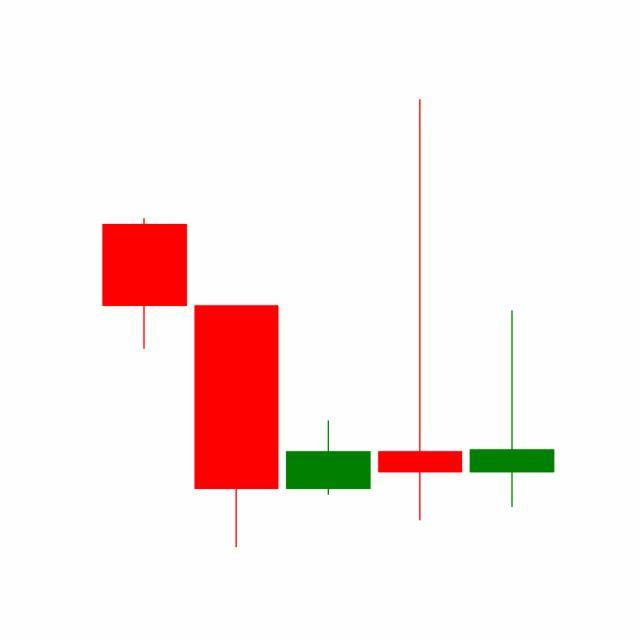Spinning Top: (466, 309, 559, 511)
